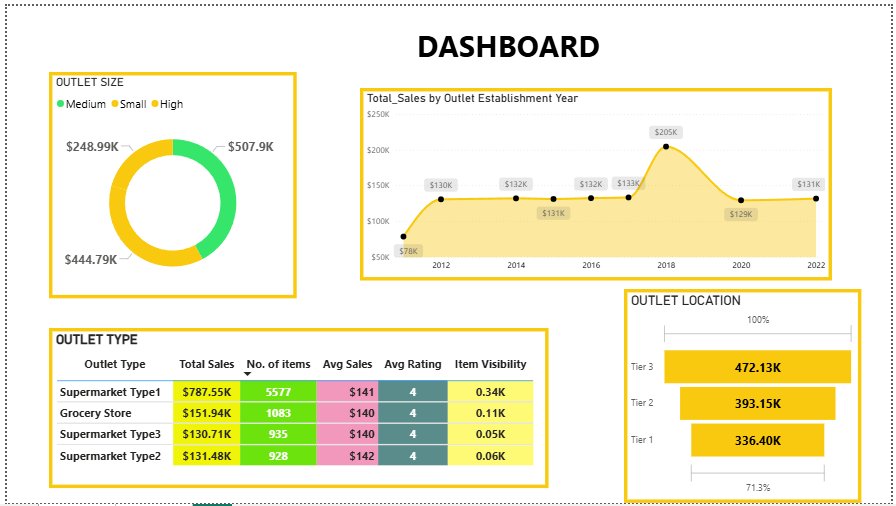

Layout of this report page (visuals, bound fields, positions):
{"tool":"powerbi","page":{"name":"Page 2","canvas":[1280,720],"ordinal":1},"visuals":[{"type":"areaChart","fields":{"Y":["Measure.Total_Sales"],"Category":["Blinkit Grocery Data.Outlet Establishment Year"]},"box":[511.2,119.5,684,279.4],"z":0},{"type":"donutChart","title":"OUTLET SIZE","fields":{"Category":["Blinkit Grocery Data.Outlet Size"],"Y":["Sum(Blinkit Grocery Data.Sales)"]},"box":[60.5,95,358.6,328.3],"z":1000},{"type":"tableEx","title":"OUTLET TYPE","fields":{"Values":["Blinkit Grocery Data.Outlet Type","Measure.Total_Sales","Measure.Number_of_Items","Measure.Average Sales","Measure.Average_Rating","Sum(Blinkit Grocery Data.Item Visibility)"]},"box":[60.5,466.6,724.3,231.8],"z":2000},{"type":"textbox","box":[406.1,23,642.2,72],"z":3000},{"type":"funnel","title":"OUTLET LOCATION","fields":{"Category":["Blinkit Grocery Data.Outlet Location Type"],"Y":["Measure.Total_Sales"]},"box":[894.2,410.4,344.2,309.6],"z":4000}]}

Visuals, with their boxes in screenshot pixels (x1, y1, x2, y2), scaled from the page's 1280x720 canvas onto the 896x506 screenshot:
areaChart - Measure.Total_Sales x Blinkit Grocery Data.Outlet Establishment Year: {"left": 358, "top": 84, "right": 837, "bottom": 280}
"OUTLET SIZE" donutChart: {"left": 42, "top": 67, "right": 293, "bottom": 297}
"OUTLET TYPE" tableEx: {"left": 42, "top": 328, "right": 549, "bottom": 491}
textbox: {"left": 284, "top": 16, "right": 734, "bottom": 67}
"OUTLET LOCATION" funnel: {"left": 626, "top": 288, "right": 867, "bottom": 505}
